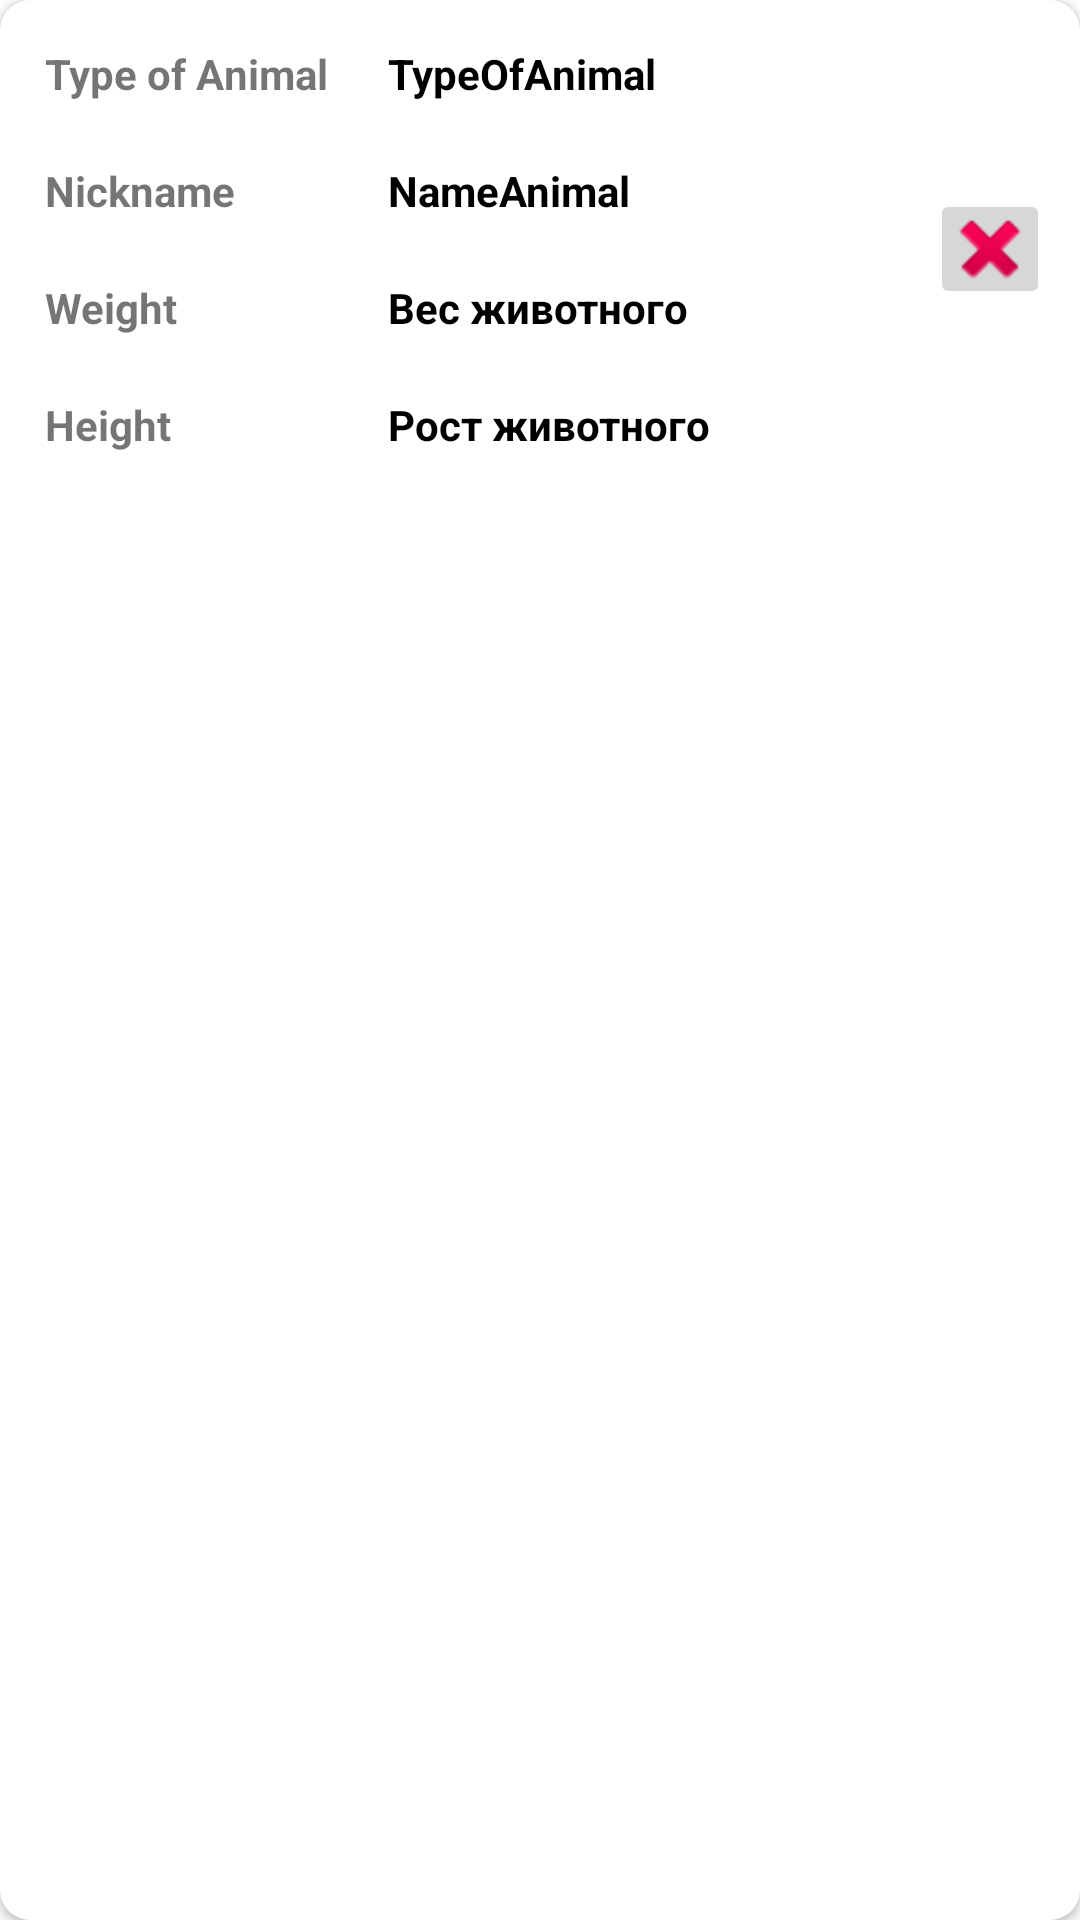

Icon click points for this 1080w x 1920h phone screenshot, format (x=x, y=y):
delete: (x=990, y=249)
